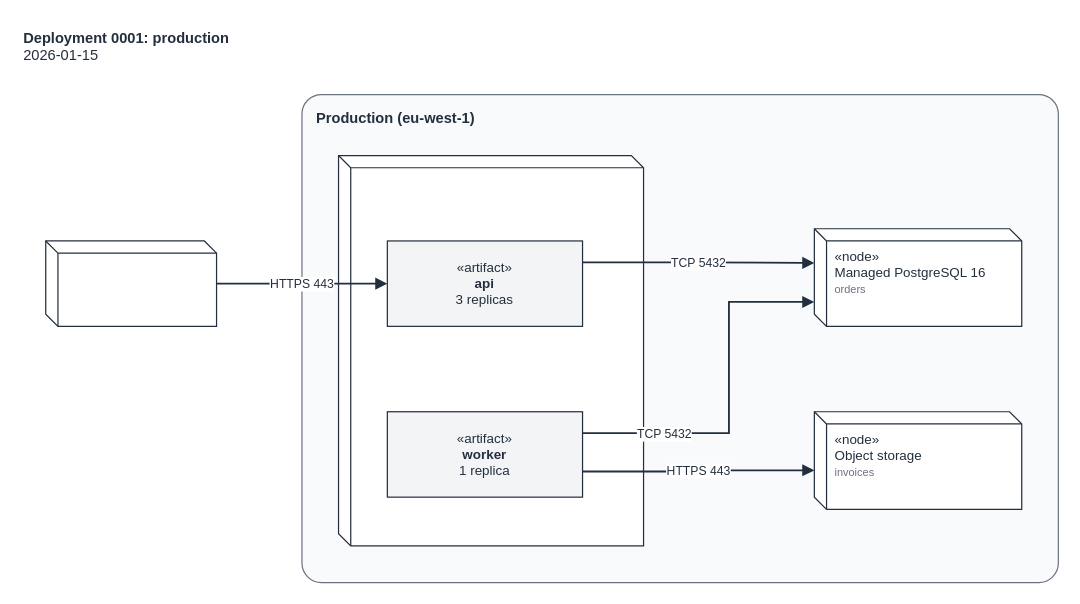
This 1080x604 diagram has some shape labels left out. The shapes that lost their labels are listed below. From the top down, each one's box as (x1, y1, x2, y2) in pixels, then its label:
(45, 240, 217, 326): «device» Customer's browser
(337, 154, 644, 546): «node» Kubernetes cluster
